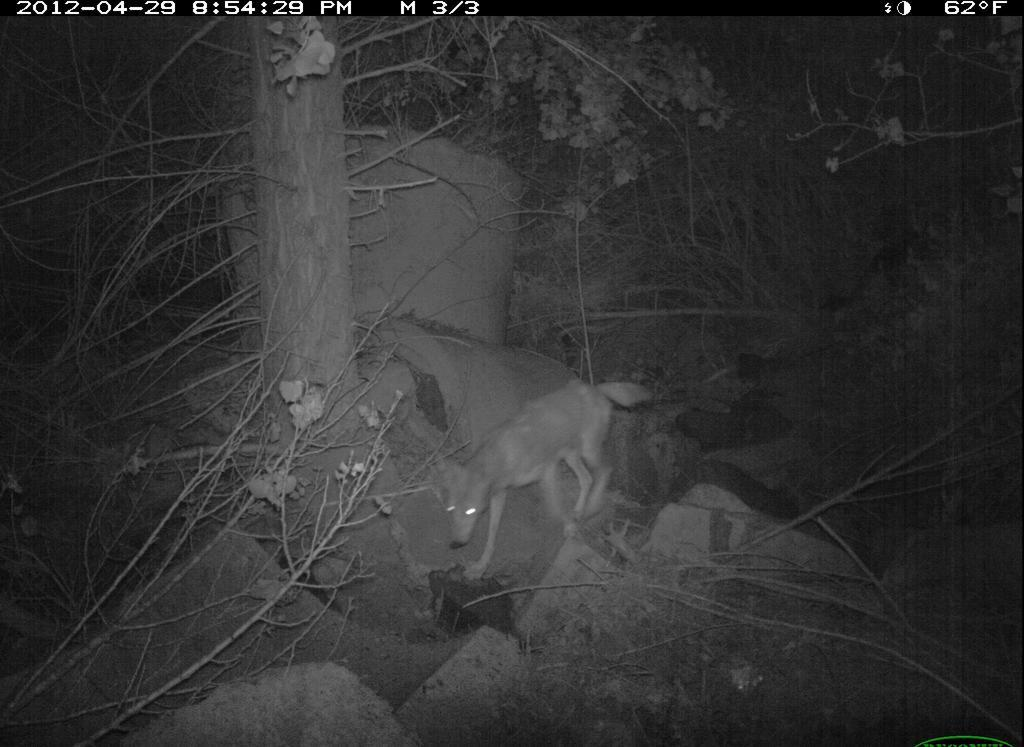coyote: (437, 361, 634, 588)
